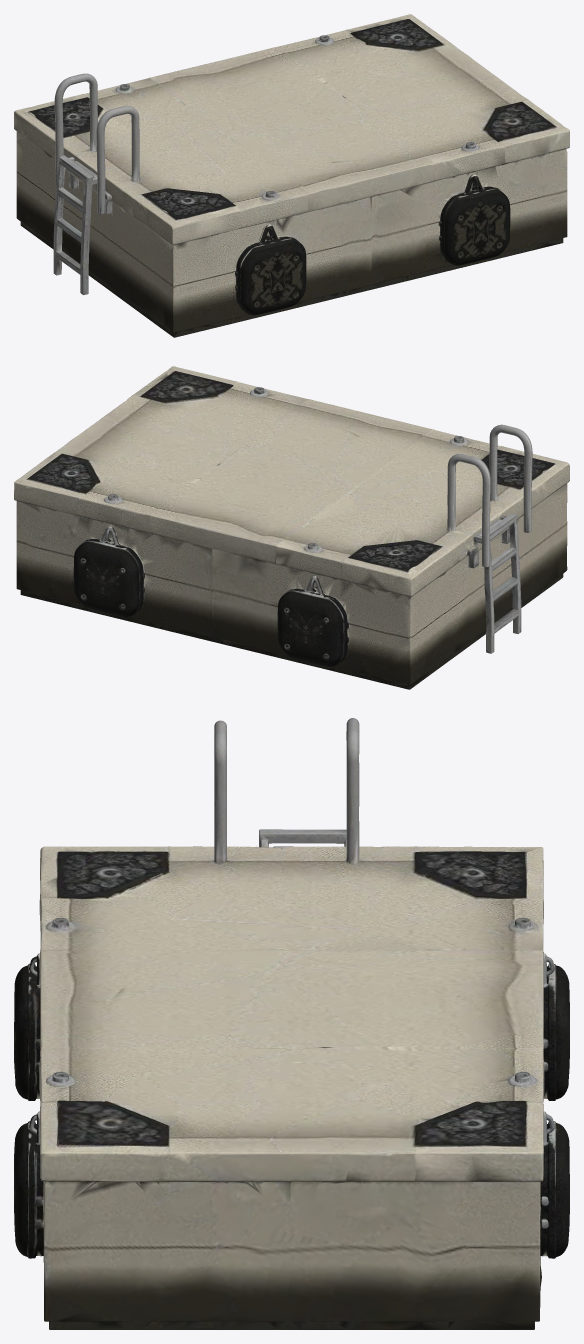
The model's file is bermuda-dock.glb.
3 views of the same model, one above another, from view 1: azimuth 30°, elevation 25°; view 2: azimuth 150°, elevation 25°; view 3: azimuth 270°, elevation 25° (orthographic). The views are drawn at different scales.
Bounding box in the file's own units: 1.9 × 0.8356 × 1.38.
Materials: 1 (1 with a texture image).
